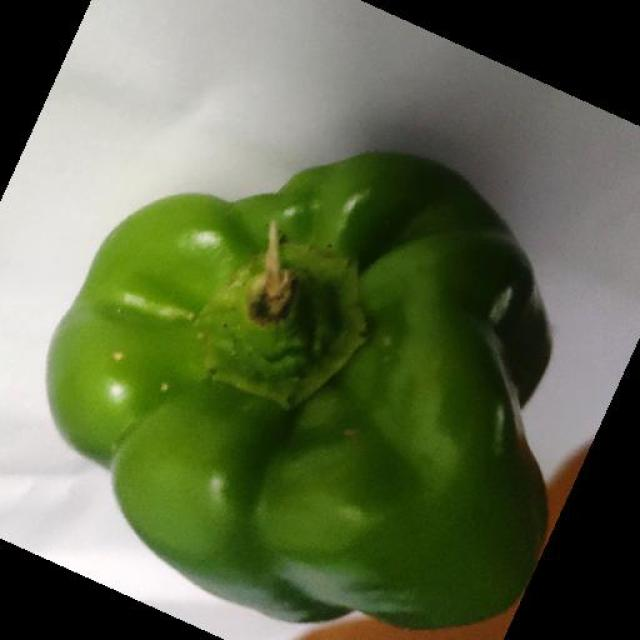Fresh_Capsicum: (159, 258, 497, 536)
